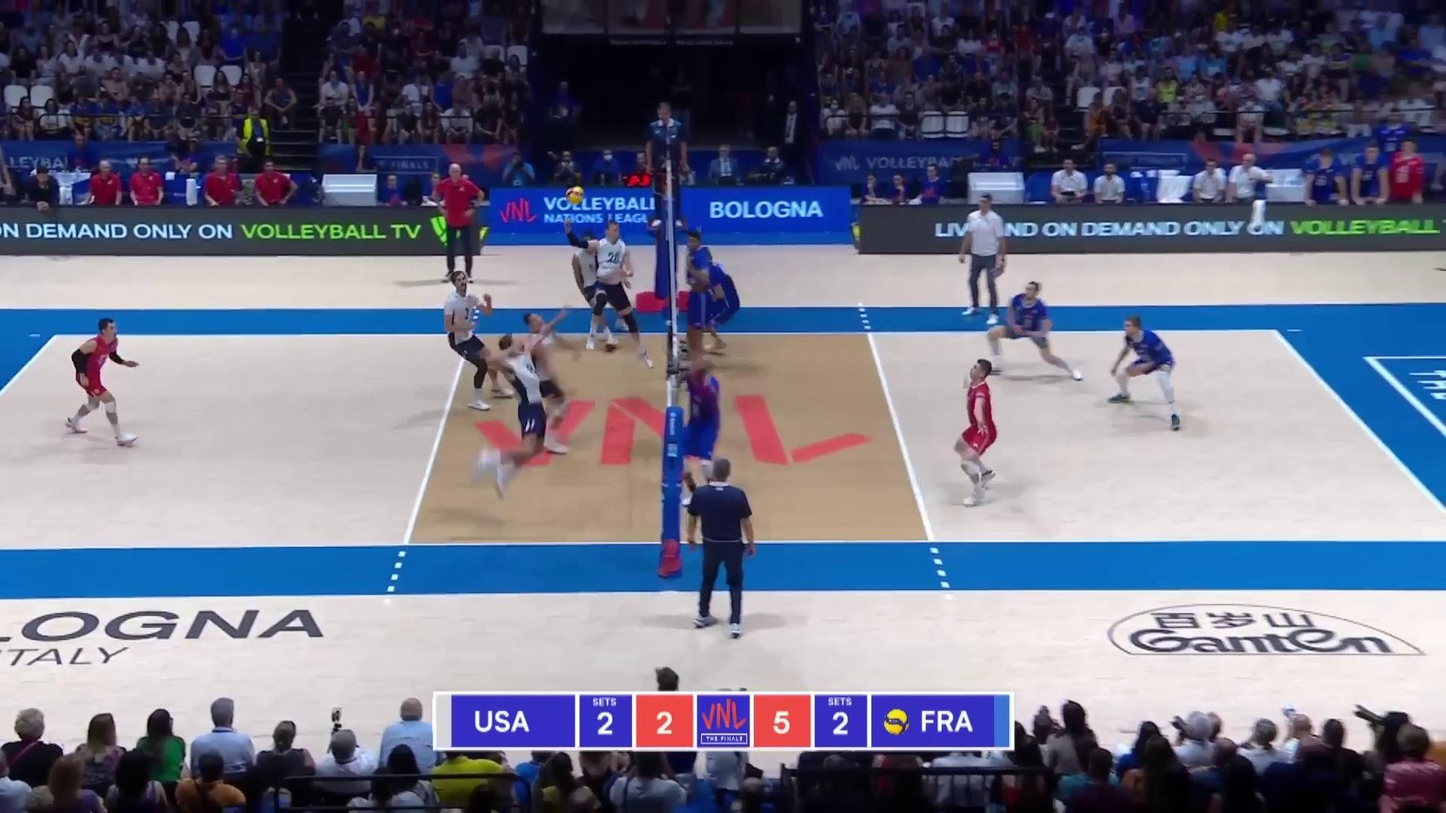player: (573, 222, 656, 372), (476, 332, 545, 508), (510, 310, 578, 462), (67, 317, 145, 444), (986, 281, 1084, 382), (1104, 317, 1181, 432), (442, 274, 503, 410), (671, 336, 721, 501), (571, 233, 636, 349), (953, 359, 1001, 505), (684, 248, 743, 364), (682, 232, 717, 374)
refree: (678, 456, 752, 630), (645, 104, 685, 220)
